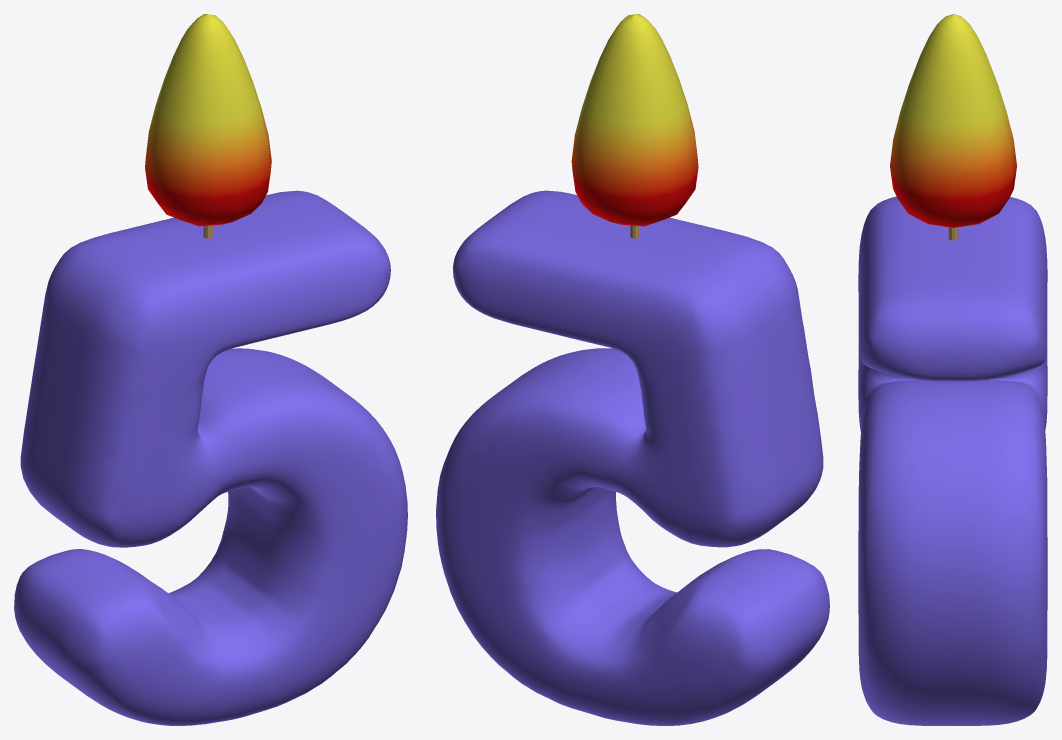
The model's file is candle_5.glb.
3 views of the same model, side by side, from view 1: azimuth 30°, elevation 25°; view 2: azimuth 150°, elevation 25°; view 3: azimuth 270°, elevation 25° (orthographic).
Parts seen in each view (by area): view 1: candle_5, fire.005; view 2: candle_5, fire.005; view 3: candle_5, fire.005.
Boxes of the visible parts, bbox=[...] form: candle_5: bbox=[14, 190, 407, 725]; fire.005: bbox=[145, 14, 271, 226]; candle_5: bbox=[436, 190, 829, 725]; fire.005: bbox=[571, 14, 698, 226]; candle_5: bbox=[858, 196, 1047, 725]; fire.005: bbox=[890, 14, 1016, 227].
Size of the model in its own units: 0.489 by 0.9367 by 0.2335.
Materials: 1 (1 with a texture image).
